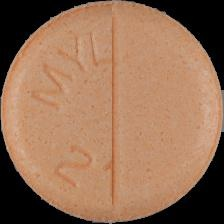53808-0372: (0, 0, 224, 224)
